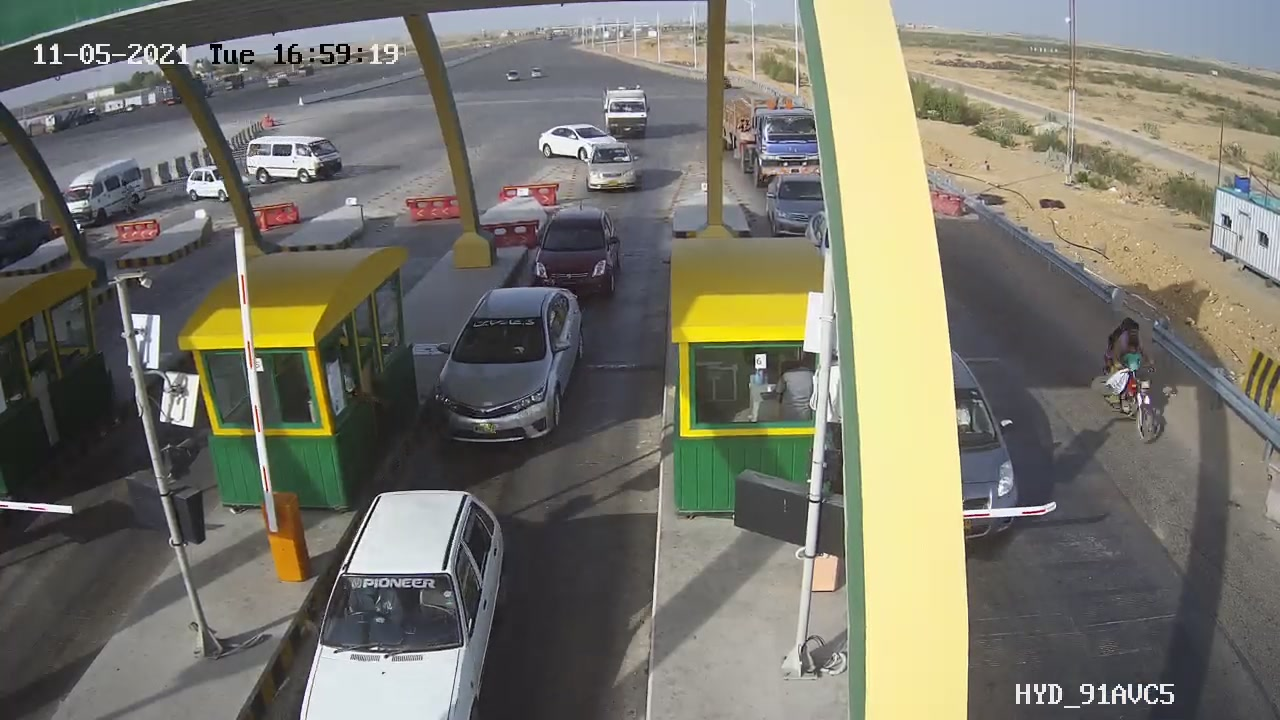F1: (418, 269, 600, 464), (513, 189, 637, 321)
